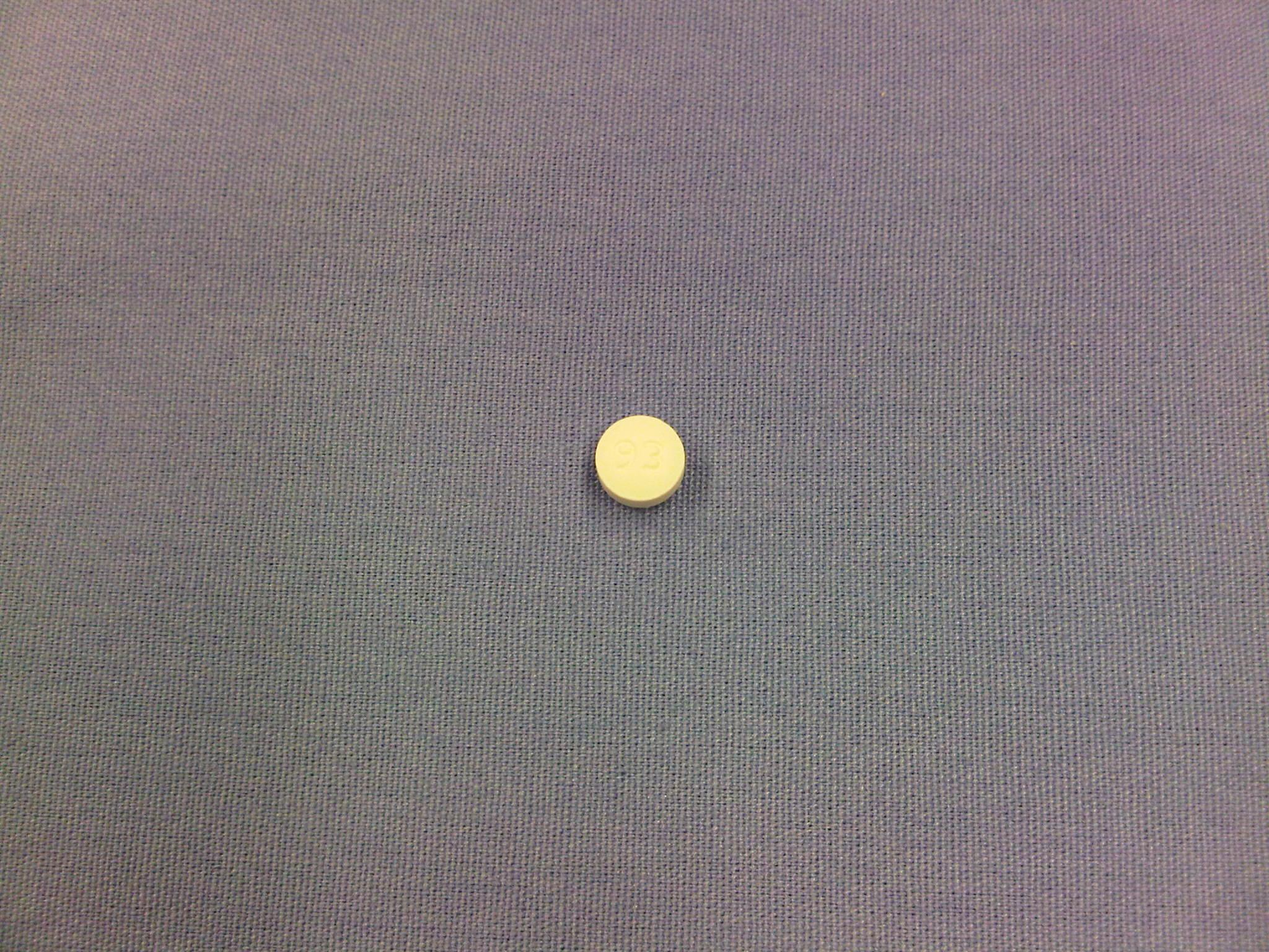Pill: (581, 404, 699, 518)
